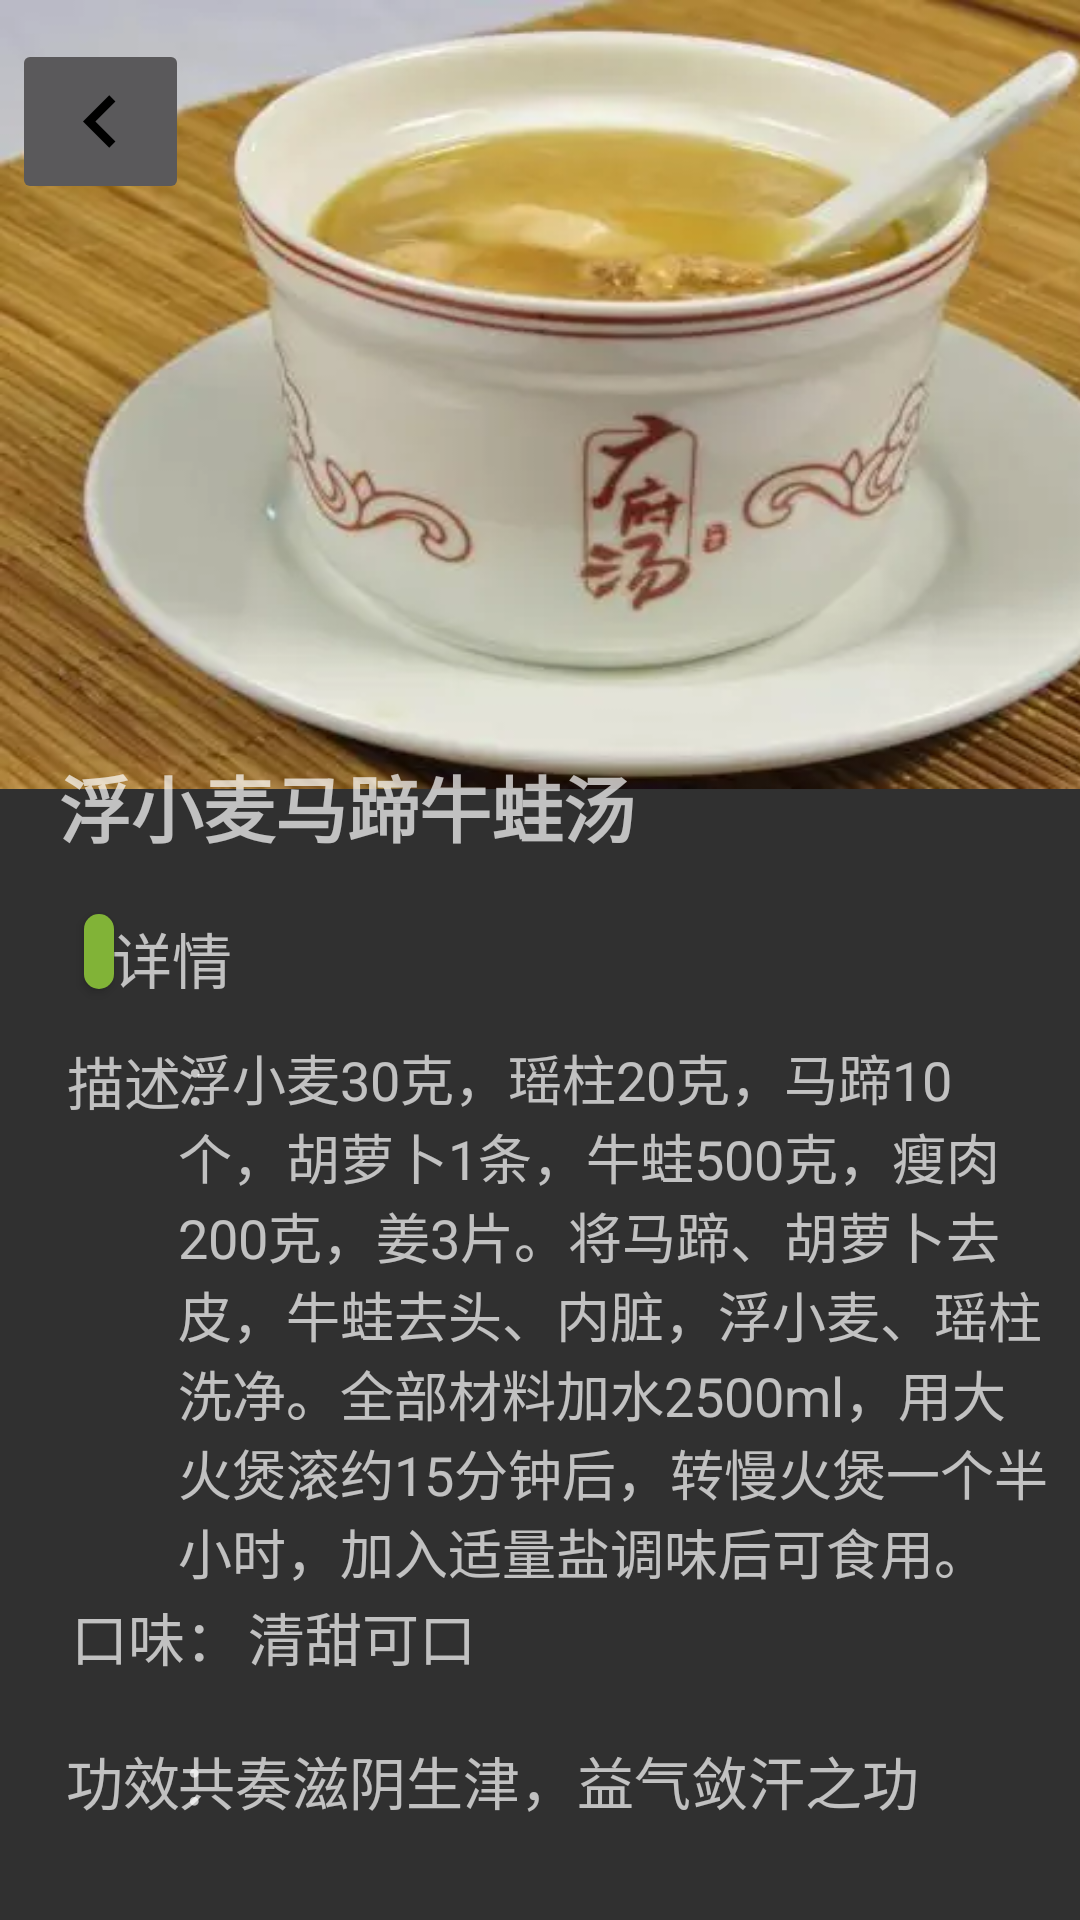

Point at icon controls on the screen. Image size 1080 x 1920, points as [x,y].
returnbutton: [100,121]
